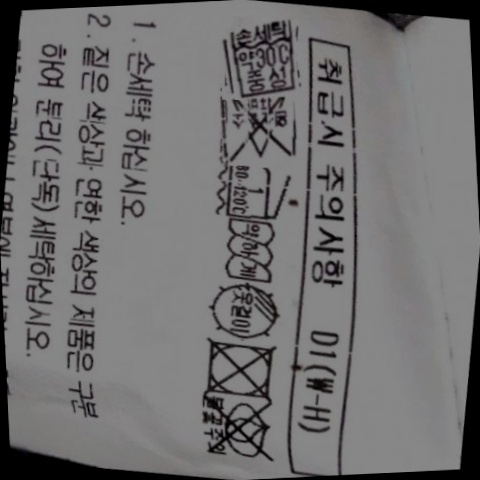DN_tumble_dry: (195, 334, 282, 402)
hand_wash: (221, 22, 303, 96)
iron_low: (219, 161, 289, 223)
line_dry_in_shade: (204, 281, 286, 341)
wring: (220, 217, 278, 286)
